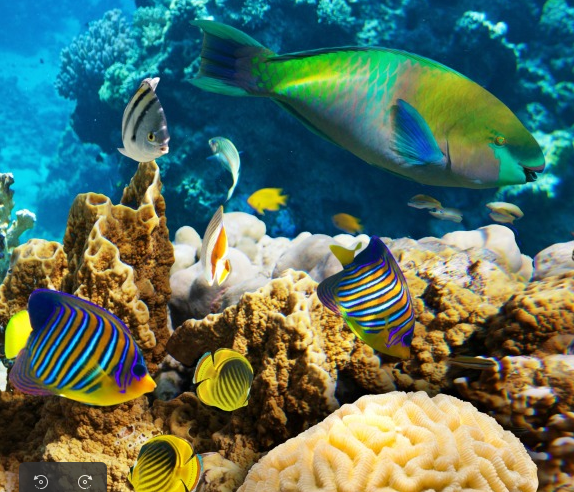fishLarge: (184, 18, 547, 189), (206, 135, 244, 202)
fishRound: (4, 287, 157, 407), (316, 236, 418, 360), (117, 75, 171, 165), (123, 433, 203, 491), (192, 344, 255, 411), (247, 190, 289, 217), (331, 212, 364, 236)
fishSmall: (486, 199, 525, 219), (404, 193, 440, 211), (430, 207, 464, 225), (487, 212, 517, 223)
